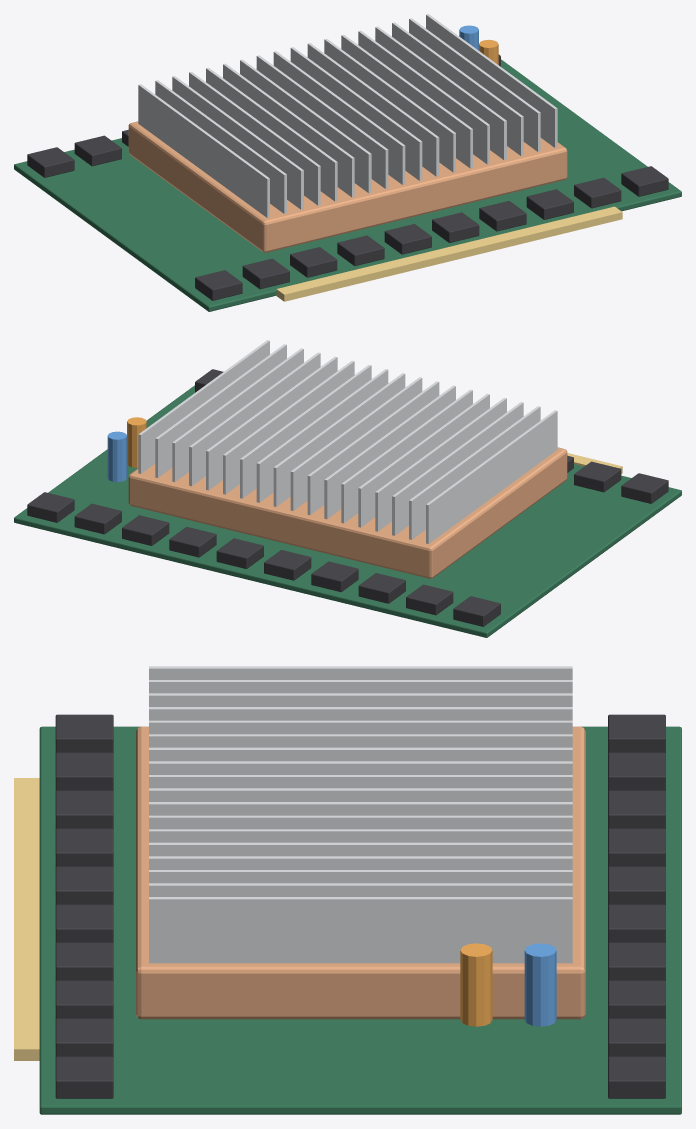
File: sxm.glb
3 renders of one model, top to bottom at view 1: azimuth 30°, elevation 25°; view 2: azimuth 150°, elevation 25°; view 3: azimuth 270°, elevation 25°, orthographic. The views are drawn at different scales.
Parts seen in each view (by area): view 1: board, coldplate, fin0, conn, fin7, fin8, fin9, fin10, fin4, fin16, fin5, fin6 (+21 smaller); view 2: board, coldplate, fin0, fin7, fin8, fin9, fin10, fin4, fin16, fin5, fin6, fin17 (+22 smaller); view 3: board, coldplate, fin17, conn, fin4, fin6, fin11, fin13, fin0, fin1, fin2, fin3 (+31 smaller).
Part boxes in pixels (x1,y1,x2,y2): board: (14,59,681,311); coldplate: (128,121,567,252); fin0: (138,84,269,217); conn: (276,206,622,301); fin7: (256,55,388,188); fin8: (273,51,405,184); fin9: (290,47,422,180); fin10: (307,43,439,176); fin4: (206,67,337,201); fin16: (409,18,540,151); fin5: (223,63,354,197); fin6: (240,59,371,193); board: (14,385,681,637); coldplate: (128,447,567,578); fin0: (426,410,557,543); fin7: (307,381,439,514); fin8: (290,377,422,510); fin9: (273,373,405,506); fin10: (256,369,388,502); fin4: (358,393,489,527); fin16: (155,344,286,477); fin5: (341,389,472,523); fin6: (324,385,455,519); fin17: (138,340,269,473); board: (39,726,681,1114); coldplate: (136,726,585,1019); fin17: (149,897,572,963); conn: (14,778,39,1060); fin4: (149,720,572,734); fin6: (149,747,572,761); fin11: (149,815,572,829); fin13: (149,842,572,856); fin0: (149,666,572,679); fin1: (149,680,572,693); fin2: (149,693,572,706); fin3: (149,707,572,720).
Size of the model in its own units: 14 by 2.45 by 10.4.
